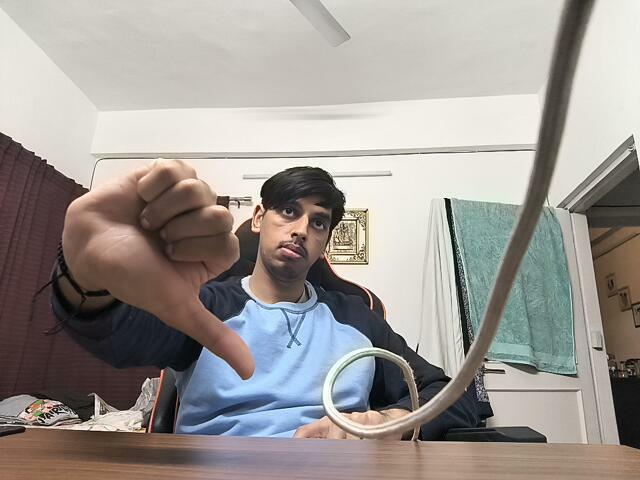LEFT: (55, 144, 266, 394)
